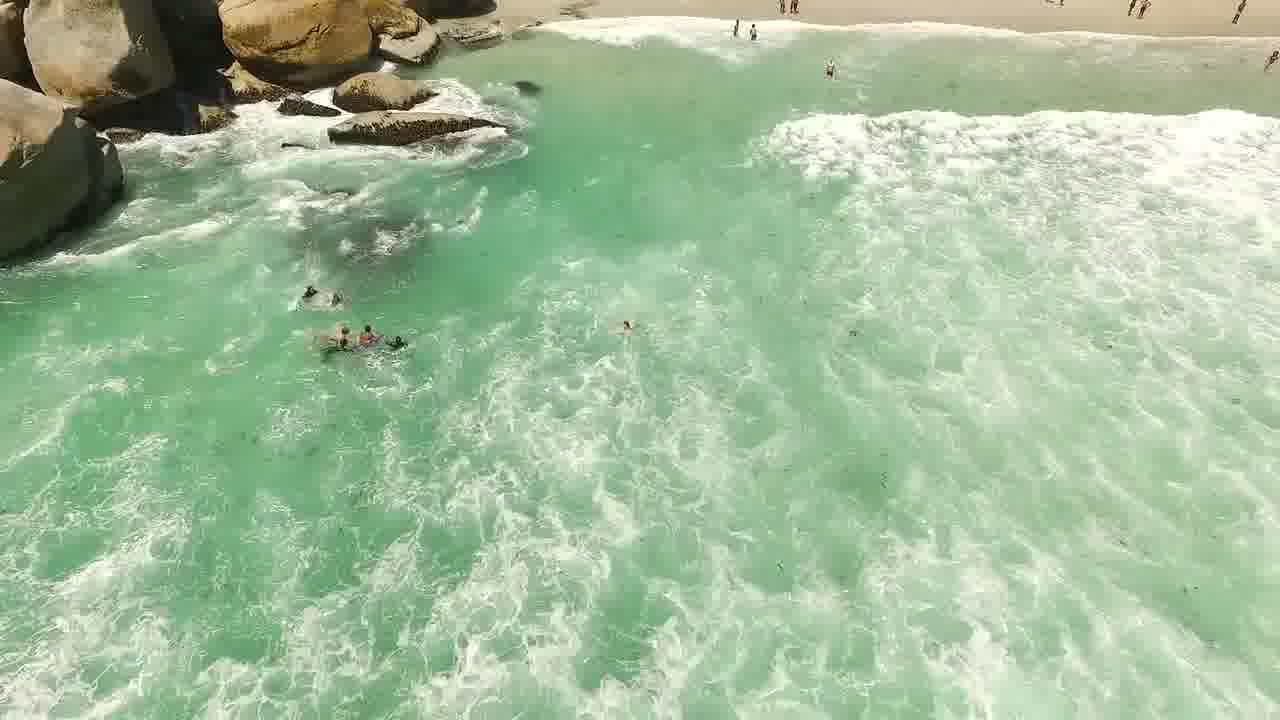human: (604, 296, 653, 346), (810, 42, 842, 92), (743, 15, 774, 52), (352, 307, 374, 357), (325, 312, 350, 354), (1251, 43, 1280, 78), (379, 316, 405, 350), (291, 262, 308, 303), (319, 278, 342, 304), (725, 11, 737, 35)
